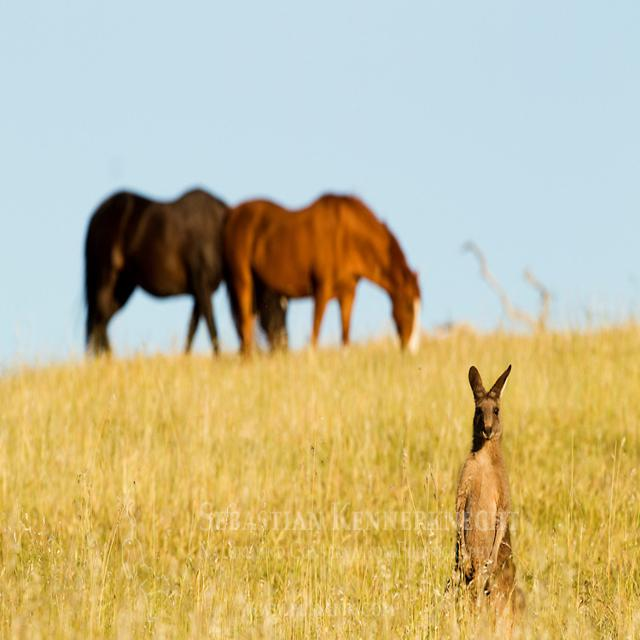kangaroo: (452, 364, 520, 602)
